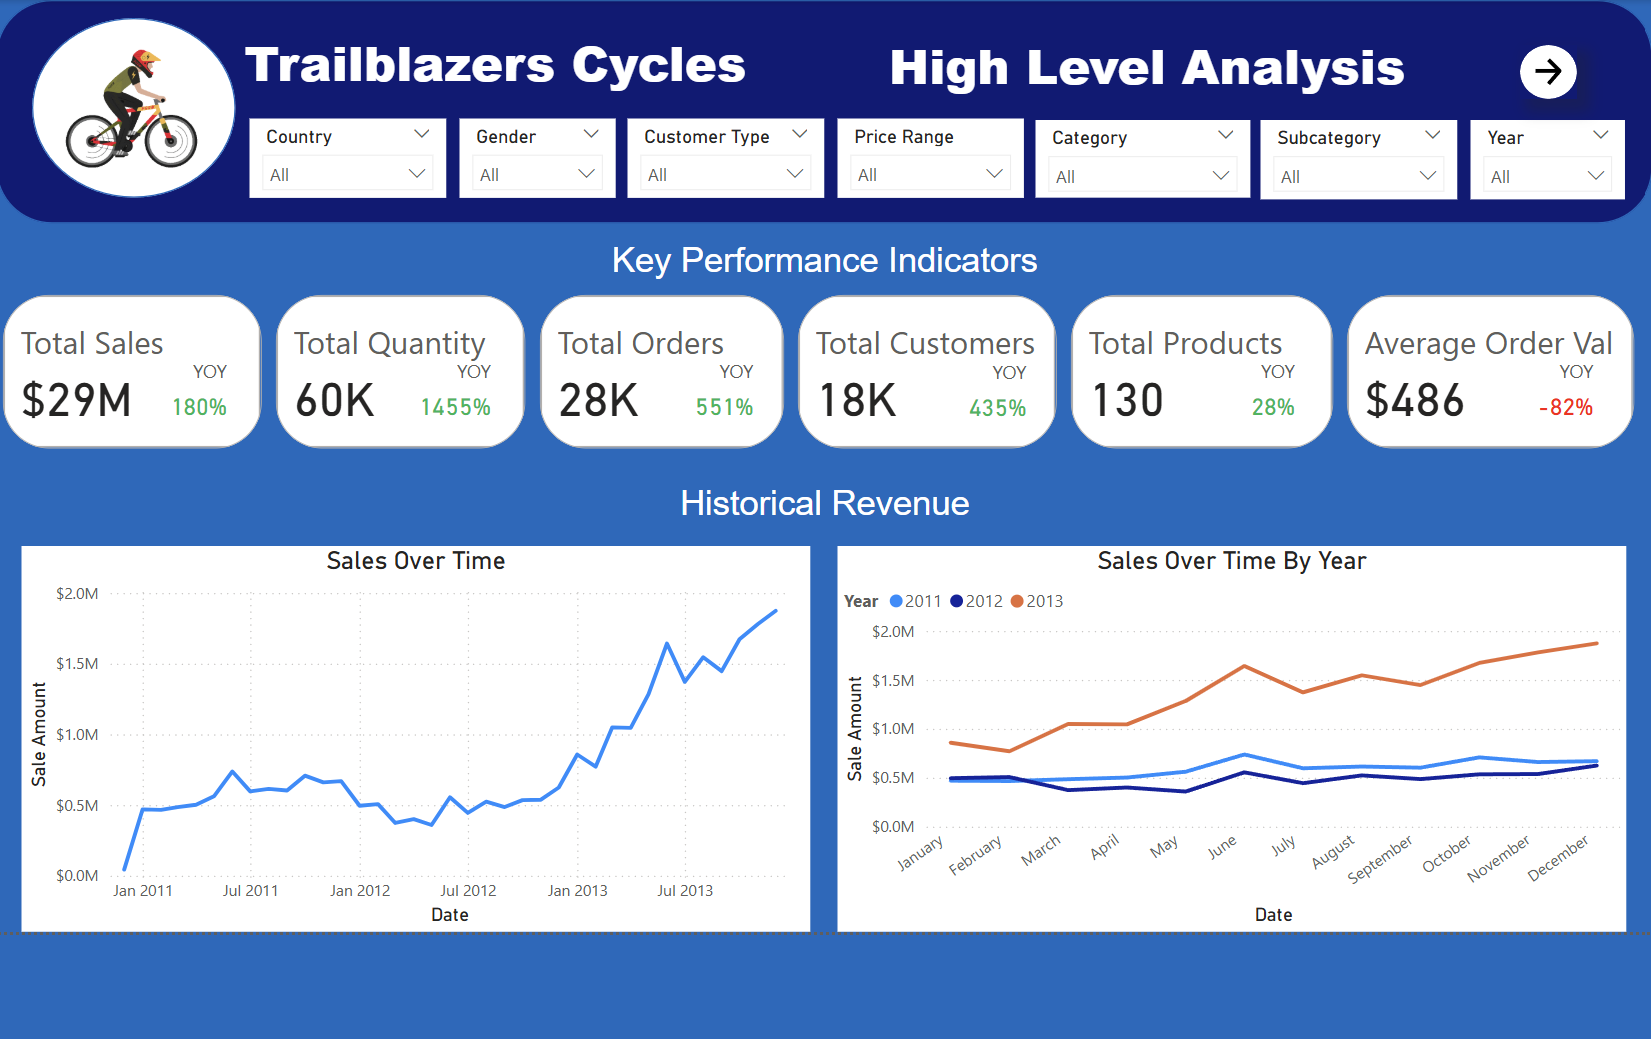

What the dashboard file says about the page in this screenshot:
{"tool":"powerbi","page":{"name":"Summary","canvas":[1280,720],"ordinal":0},"visuals":[{"type":"shape","box":[0,0,1280.4,172.7],"z":0},{"type":"shape","box":[27.8,13.9,157.6,139],"z":1000},{"type":"cardVisual","fields":{"Data":["Sum(gold fact_sales.price)"]},"box":[27.8,13.9,157.6,139],"z":2000},{"type":"textbox","box":[156.4,16.2,458.9,134.4],"z":3000},{"type":"slicer","fields":{"Values":["gold dim_customers.country"]},"box":[195.8,91.5,151.8,61.4],"z":4000},{"type":"slicer","fields":{"Values":["gold dim_customers.gender"]},"box":[358,91.5,120.5,61.4],"z":5000},{"type":"slicer","fields":{"Values":["gold dim_customers.Customer Group"]},"box":[487.8,91.5,151.8,61.4],"z":6000},{"type":"slicer","fields":{"Values":["gold dim_products.category"]},"box":[803,92.7,165.7,60.3],"z":7000},{"type":"slicer","fields":{"Values":["gold dim_products.Product Group"]},"box":[650,91.5,143.7,61.4],"z":8000},{"type":"slicer","fields":{"Values":["gold dim_products.subcategory"]},"box":[976.8,92.7,151.8,61.4],"z":9000},{"type":"slicer","fields":{"Values":["gold fact_sales.order_date.Variation.Date Hierarchy.Year"]},"box":[1139,92.7,119.3,61.4],"z":10000},{"type":"textbox","box":[684.8,18.5,434.5,74.2],"z":11000},{"type":"textbox","box":[0,180.8,1280.4,41.7],"z":12000},{"type":"cardVisual","fields":{"Data":["gold fact_sales.Total Sales"]},"box":[0,222.5,210.9,129.8],"z":13000},{"type":"cardVisual","fields":{"Data":["gold fact_sales.Total Quantity"]},"box":[210.9,222.5,203.9,129.8],"z":14000},{"type":"cardVisual","fields":{"Data":["gold fact_sales.Total Orders"]},"box":[414.8,222.5,199.3,129.8],"z":15000},{"type":"cardVisual","fields":{"Data":["gold fact_sales.Distinct Customers"]},"box":[614.1,222.5,210.9,129.8],"z":16000},{"type":"cardVisual","fields":{"Data":["gold fact_sales.Average Sale"]},"box":[1038.2,222.5,232.9,129.8],"z":17000},{"type":"textbox","box":[4.6,368.5,1271.1,53.3],"z":18000},{"type":"lineChart","title":"Sales Over Time","fields":{"Y":["Sum(gold fact_sales.sales_amount)"],"Category":["gold fact_sales.order_date.Variation.Date Hierarchy.Year","gold fact_sales.order_date.Variation.Date Hierarchy.Quarter","gold fact_sales.order_date.Variation.Date Hierarchy.Month"]},"box":[19.7,421.8,609.5,297.8],"z":19000},{"type":"lineChart","title":"Sales Over Time By Year","fields":{"Y":["Sum(gold fact_sales.sales_amount)"],"Category":["gold fact_sales.order_date.Variation.Date Hierarchy.Month"],"Series":["gold fact_sales.order_date.Variation.Date Hierarchy.Year"]},"box":[650,421.8,609.5,297.8],"z":20000},{"type":"cardVisual","fields":{"Data":["gold fact_sales.Distinct Products"]},"box":[825,222.5,213.2,129.8],"z":21000},{"type":"actionButton","box":[1177.3,34.8,44,41.7],"z":22000},{"type":"cardVisual","fields":{"Data":["gold fact_sales.YoY Sales Latest Year"]},"box":[91.5,258.4,104.3,80],"z":22001},{"type":"cardVisual","fields":{"Data":["gold fact_sales.YoY Quantity Latest Year"]},"box":[295.5,258.4,104.3,80],"z":22002},{"type":"cardVisual","fields":{"Data":["gold fact_sales.YoY Orders Latest Year"]},"box":[505.2,258.4,97.3,80],"z":22003},{"type":"cardVisual","fields":{"Data":["gold fact_sales.YoY Customers Latest Year"]},"box":[709.1,259.6,104.3,80],"z":22004},{"type":"cardVisual","fields":{"Data":["gold fact_sales.YoY Products Latest Year"]},"box":[916.6,258.4,104.3,80],"z":22005},{"type":"cardVisual","fields":{"Data":["gold fact_sales.YoY Average Sales Latest Year"]},"box":[1147.1,258.4,104.3,80],"z":22006}]}

Visuals, with their boxes on the page's 1280x720 design canvas (x1, y1, x2, y2). These are canvas units, not pixel positions in the 1651x1039 screenshot, which may show the page scaled, cropped or inside an application window:
shape: 0 0 1280 173
shape: 28 14 185 153
cardVisual - Sum(gold fact_sales.price): 28 14 185 153
textbox: 156 16 615 151
slicer - gold dim_customers.country: 196 92 348 153
slicer - gold dim_customers.gender: 358 92 478 153
slicer - gold dim_customers.Customer Group: 488 92 640 153
slicer - gold dim_products.category: 803 93 969 153
slicer - gold dim_products.Product Group: 650 92 794 153
slicer - gold dim_products.subcategory: 977 93 1129 154
slicer - gold fact_sales.order_date.Variation.Date Hierarchy.Year: 1139 93 1258 154
textbox: 685 18 1119 93
textbox: 0 181 1280 222
cardVisual - gold fact_sales.Total Sales: 0 222 211 352
cardVisual - gold fact_sales.Total Quantity: 211 222 415 352
cardVisual - gold fact_sales.Total Orders: 415 222 614 352
cardVisual - gold fact_sales.Distinct Customers: 614 222 825 352
cardVisual - gold fact_sales.Average Sale: 1038 222 1271 352
textbox: 5 368 1276 422
"Sales Over Time" lineChart: 20 422 629 720
"Sales Over Time By Year" lineChart: 650 422 1260 720
cardVisual - gold fact_sales.Distinct Products: 825 222 1038 352
actionButton: 1177 35 1221 76
cardVisual - gold fact_sales.YoY Sales Latest Year: 92 258 196 338
cardVisual - gold fact_sales.YoY Quantity Latest Year: 296 258 400 338
cardVisual - gold fact_sales.YoY Orders Latest Year: 505 258 602 338
cardVisual - gold fact_sales.YoY Customers Latest Year: 709 260 813 340
cardVisual - gold fact_sales.YoY Products Latest Year: 917 258 1021 338
cardVisual - gold fact_sales.YoY Average Sales Latest Year: 1147 258 1251 338
